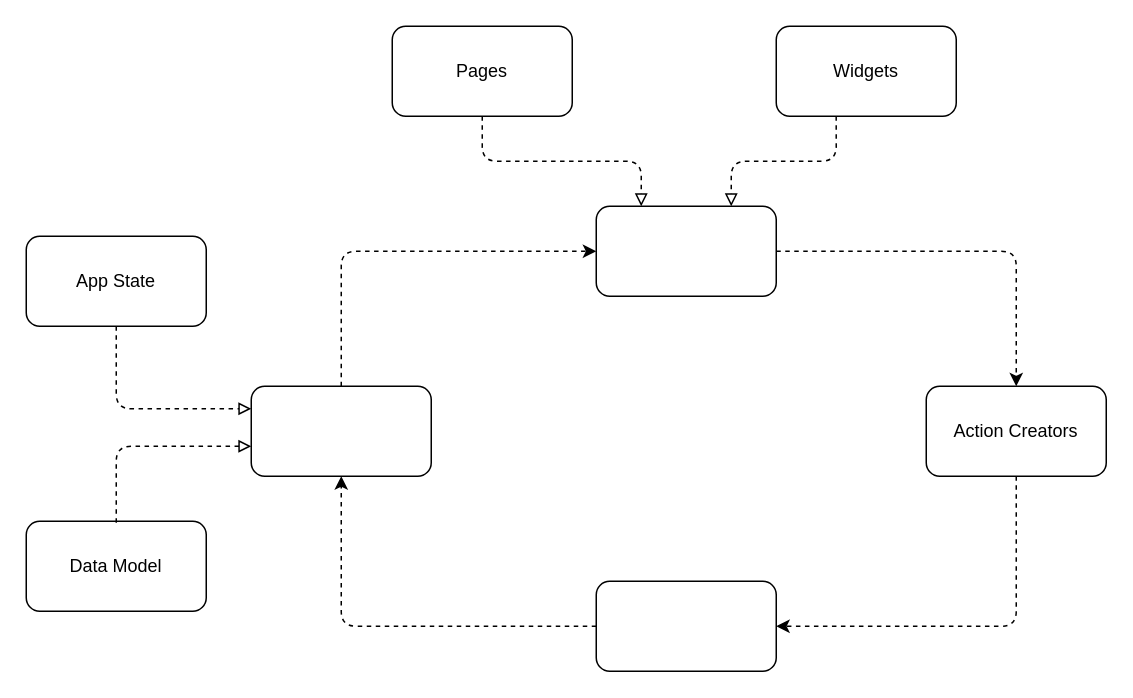
Image size: 1133x698. Some labels were removed from this diagram. The shapes that lost their labels are listed below. From the top down, each one's box as (x1, y1, x2, y2) in pixels, then its label:
(595, 205, 776, 296): View
(250, 385, 431, 476): Model
(595, 580, 776, 671): Action
